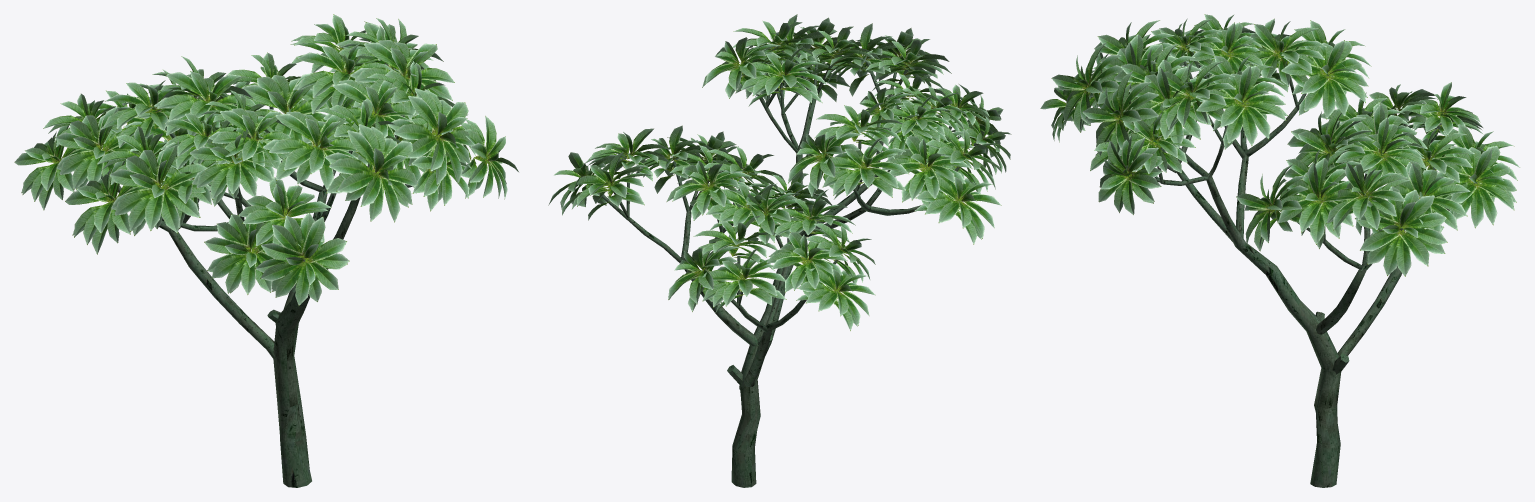
The model's file is tree.glb.
The picture shows the model from 3 angles, left to right: view 1: azimuth 30°, elevation 25°; view 2: azimuth 150°, elevation 25°; view 3: azimuth 270°, elevation 25°; orthographic projection. The views are drawn at different scales.
Visible parts, largest first — view 1: Object_4, Object_10; view 2: Object_4, Object_10; view 3: Object_4, Object_10.
Boxes of the visible parts, x1,y1,x2,y2 form: Object_4: (14, 14, 518, 305); Object_10: (118, 63, 476, 487); Object_4: (548, 14, 1011, 330); Object_10: (602, 56, 979, 487); Object_4: (1040, 14, 1519, 276); Object_10: (1132, 52, 1477, 487).
Bounding box in the file's own units: 211 × 231 × 230.
3 materials, 2 textured.
